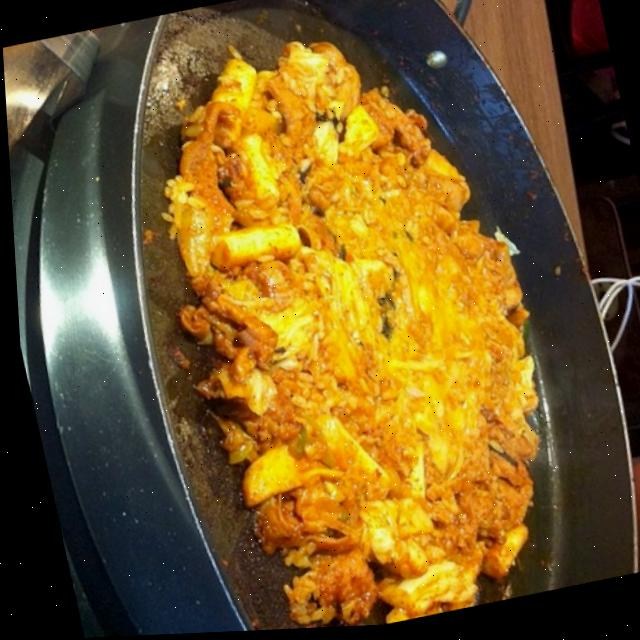鸡肉料理 含炸鸡: (102, 5, 612, 636)
